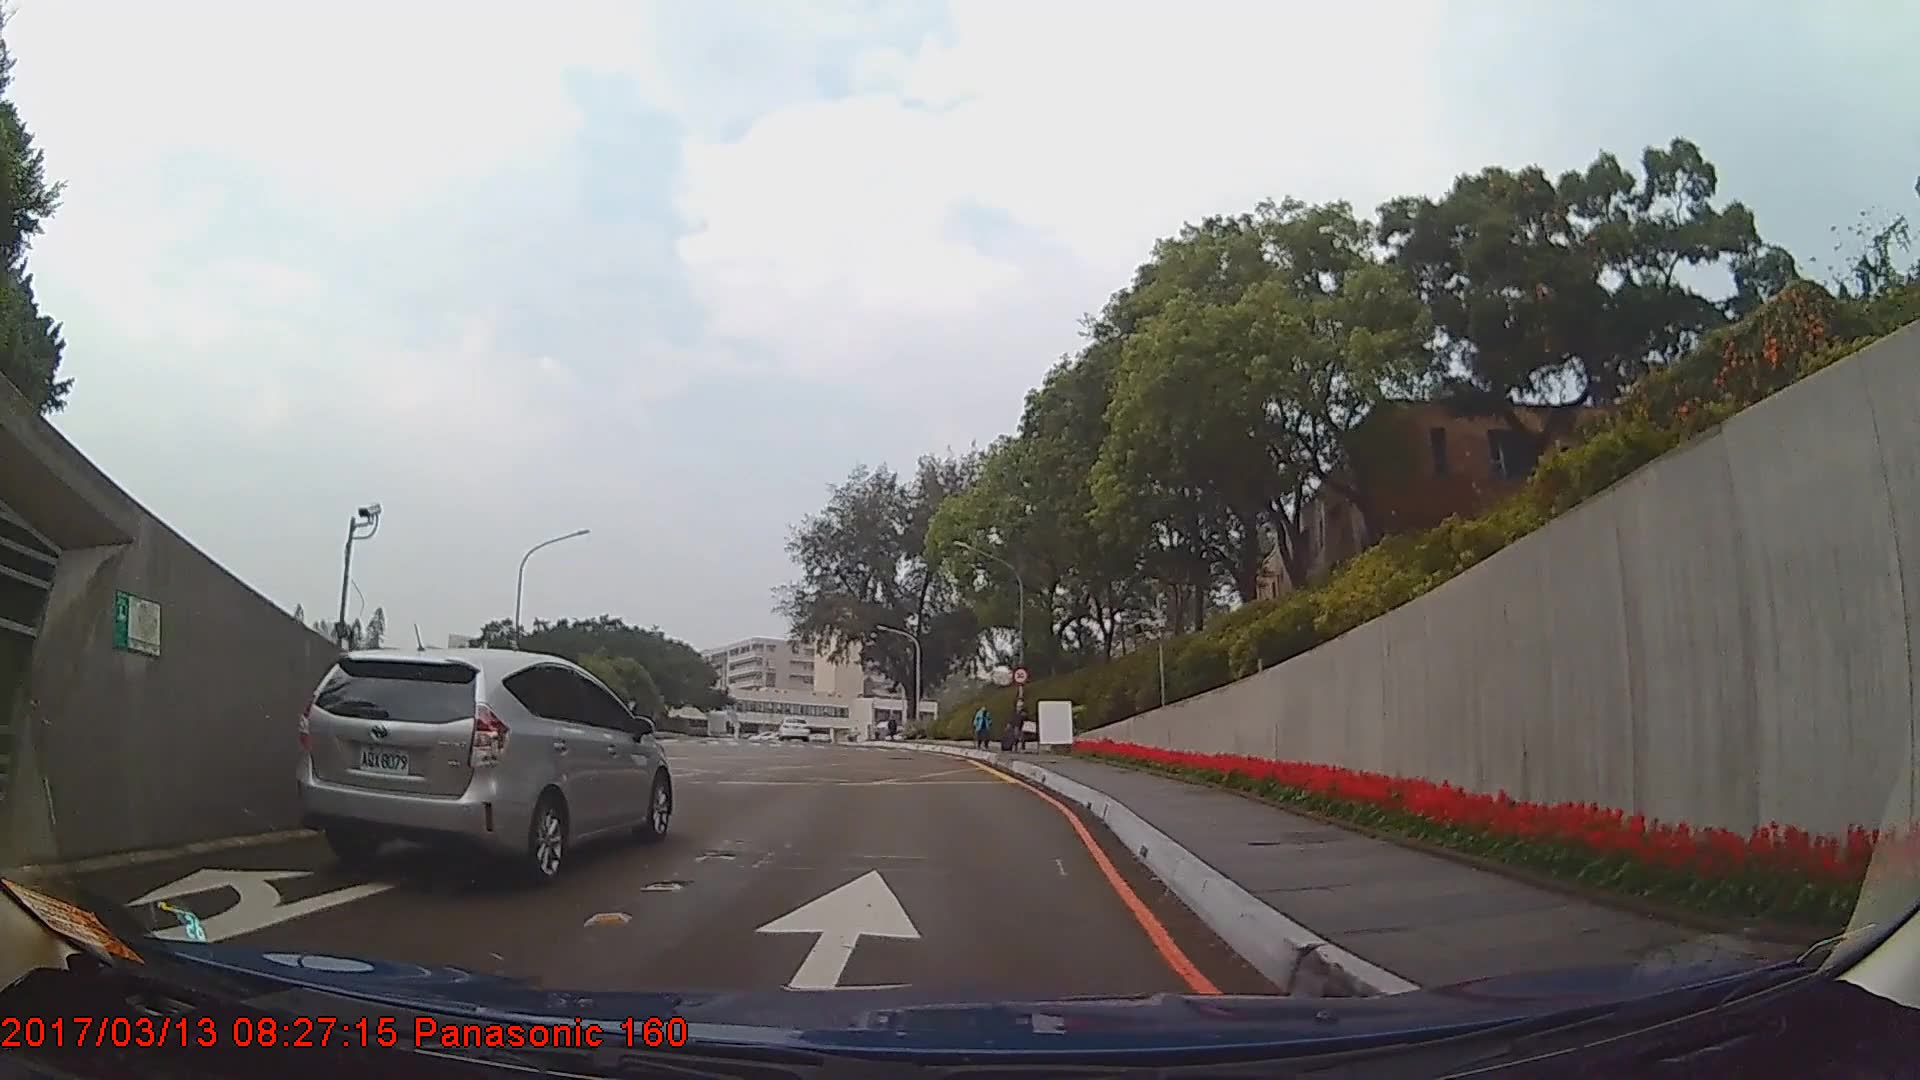pedestrian: (1002, 696, 1039, 752), (971, 704, 992, 752)
vehicle: (289, 646, 670, 889), (777, 714, 811, 741)
